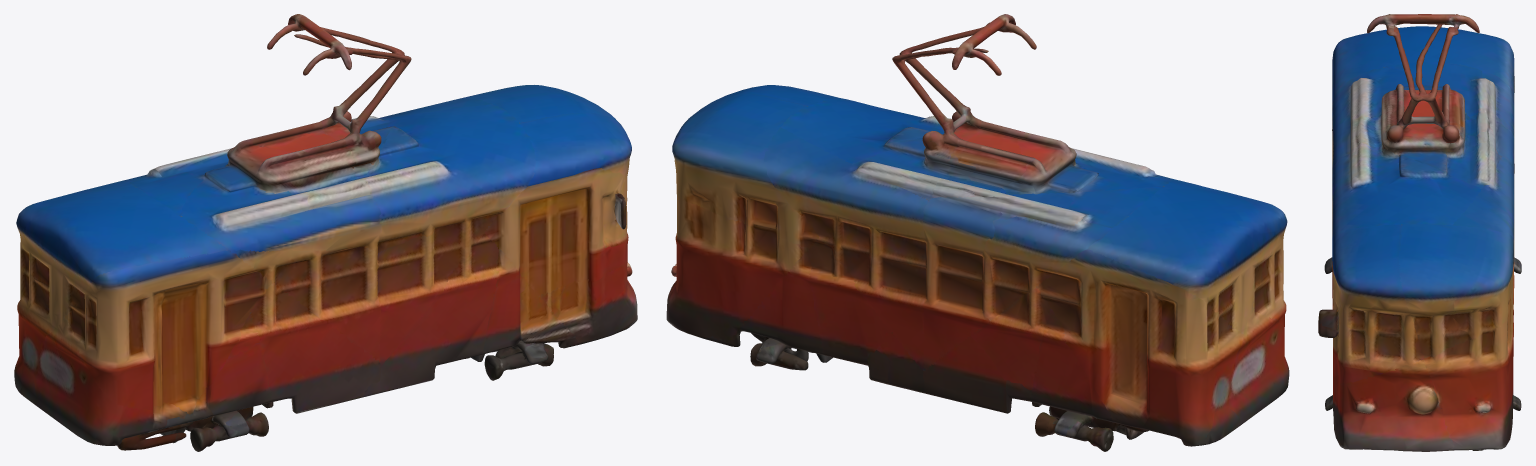
The model's file is tram_car.glb.
The picture shows the model from 3 angles, left to right: view 1: azimuth 30°, elevation 25°; view 2: azimuth 150°, elevation 25°; view 3: azimuth 270°, elevation 25°; orthographic projection. The views are drawn at different scales.
Visible parts, largest first — view 1: tripo_node_88a30fd3-c636-4e23-b4d5-fef77db9477e; view 2: tripo_node_88a30fd3-c636-4e23-b4d5-fef77db9477e; view 3: tripo_node_88a30fd3-c636-4e23-b4d5-fef77db9477e.
Part boxes in pixels (x1,y1,x2,y2): tripo_node_88a30fd3-c636-4e23-b4d5-fef77db9477e: [14, 14, 637, 451]; tripo_node_88a30fd3-c636-4e23-b4d5-fef77db9477e: [666, 14, 1289, 451]; tripo_node_88a30fd3-c636-4e23-b4d5-fef77db9477e: [1318, 14, 1521, 451].
Size of the model in its own units: 0.9478 by 0.5678 by 0.3158.
1 material, 1 textured.
